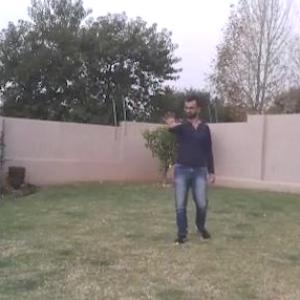follow_hand: (158, 108, 183, 131)
